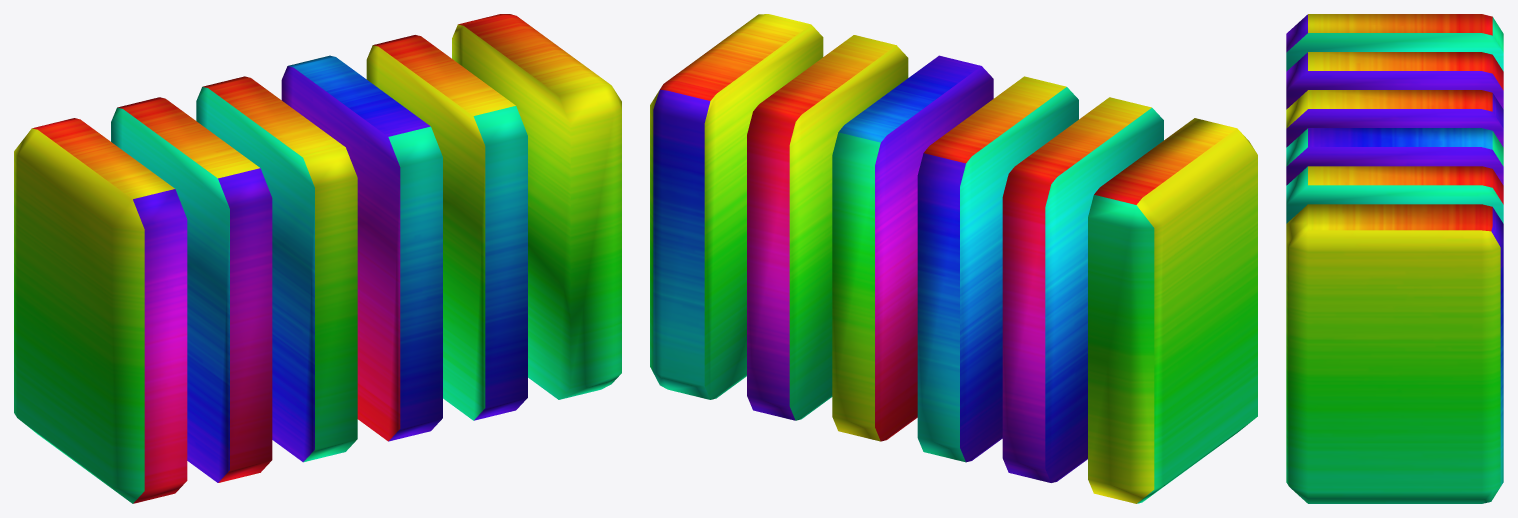
File: butter_Collider.glb
The picture shows the model from 3 angles, left to right: view 1: azimuth 30°, elevation 25°; view 2: azimuth 150°, elevation 25°; view 3: azimuth 270°, elevation 25°; orthographic projection. The views are drawn at different scales.
Visible parts, largest first — view 1: Butter; view 2: Butter; view 3: Butter.
Part boxes in pixels (left/top/right/bottom): Butter: left=14, top=14, right=621, bottom=503; Butter: left=650, top=14, right=1257, bottom=503; Butter: left=1286, top=14, right=1503, bottom=503.
Size of what is drawn, in the model's own units: 0.1449 by 0.0827 by 0.0584.
Materials: 1 (1 with a texture image).
